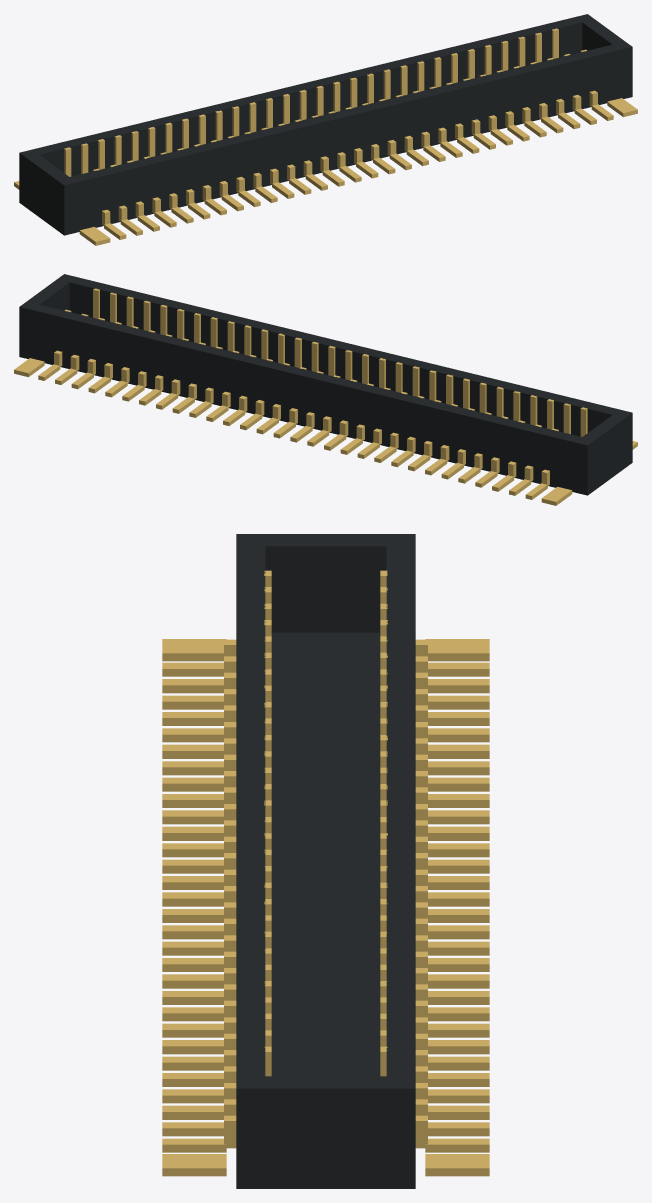
Rendered from df40-60dp-preview.glb.
3 views of the same model, one above another, from view 1: azimuth 30°, elevation 25°; view 2: azimuth 150°, elevation 25°; view 3: azimuth 270°, elevation 25° (orthographic). The views are drawn at different scales.
Parts seen in each view (by area): view 1: df40-60dp-preview; view 2: df40-60dp-preview; view 3: df40-60dp-preview.
Boxes of the visible parts, bbox=[...] form: df40-60dp-preview: bbox=[14, 14, 637, 245]; df40-60dp-preview: bbox=[14, 274, 637, 505]; df40-60dp-preview: bbox=[162, 534, 489, 1188].
Bounding box in the file's own units: 13.52 × 1.14 × 3.37.
